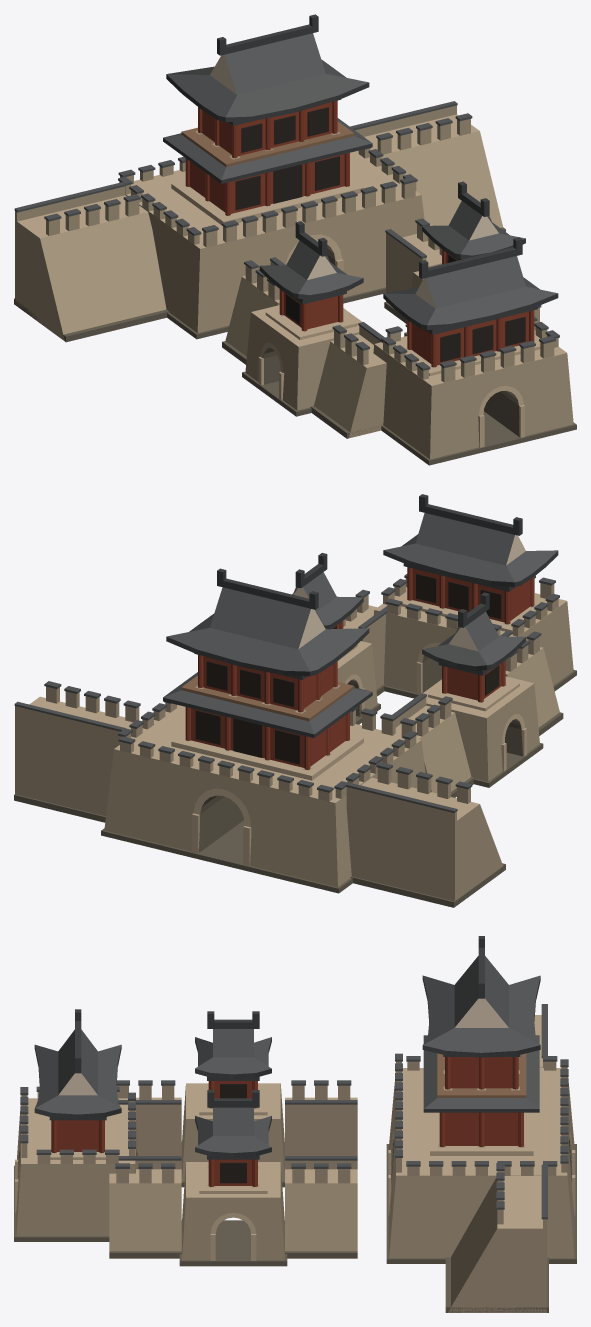
The model's file is J04_far.glb.
3 views of the same model, one above another, from view 1: azimuth 30°, elevation 25°; view 2: azimuth 150°, elevation 25°; view 3: azimuth 270°, elevation 25° (orthographic).
Visible parts, largest first — view 1: J04_far; view 2: J04_far; view 3: J04_far.
Boxes of the visible parts, x1,y1,x2,y2 form: J04_far: (14,14,576,465); J04_far: (14,494,576,907); J04_far: (14,936,576,1312).
Bounding box in the file's own units: 48.8 × 26.26 × 54.4.
